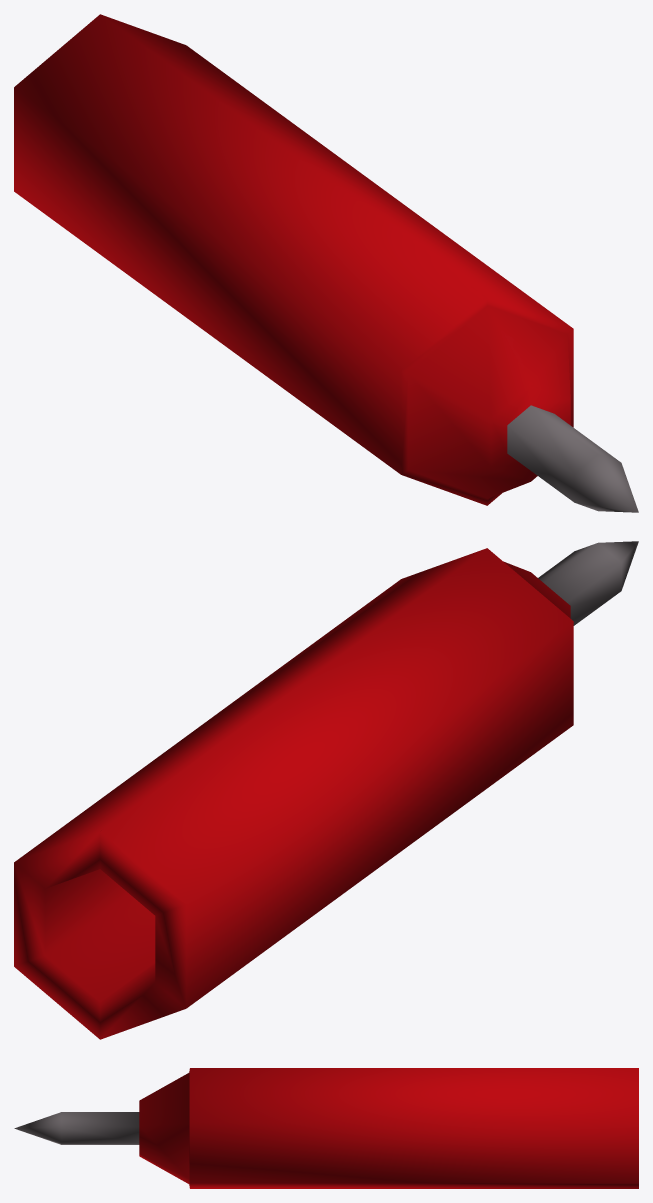
File: dart.fbx
3 views of the same model, one above another, from view 1: azimuth 30°, elevation 25°; view 2: azimuth 150°, elevation 25°; view 3: azimuth 270°, elevation 25° (orthographic). The views are drawn at different scales.
Visible parts, largest first — view 1: dart; view 2: dart; view 3: dart.
Boxes of the visible parts, x1,y1,x2,y2 form: dart: (14, 14, 638, 512); dart: (14, 541, 638, 1039); dart: (14, 1068, 638, 1188).
Bounding box in the file's own units: 43.3 × 50 × 234.
